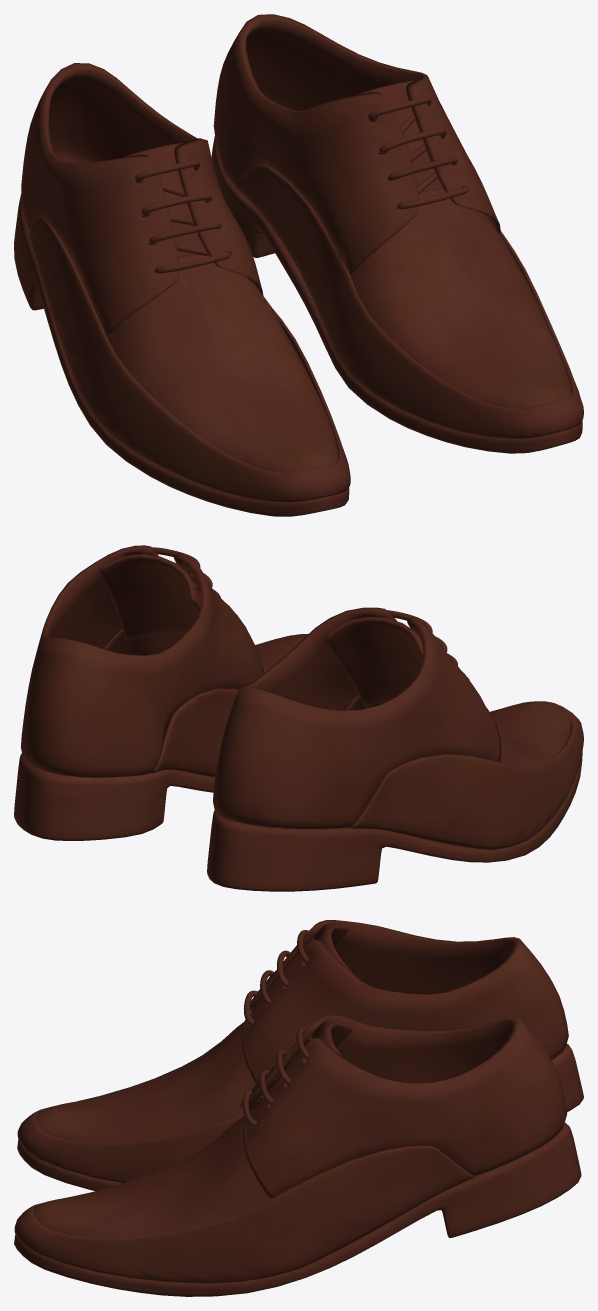
The model's file is Shoe3-1.glb.
The picture shows the model from 3 angles, top to bottom: view 1: azimuth 30°, elevation 25°; view 2: azimuth 150°, elevation 25°; view 3: azimuth 270°, elevation 25°; orthographic projection. The views are drawn at different scales.
Parts seen in each view (by area): view 1: Object_4.015; view 2: Object_4.015; view 3: Object_4.015.
Boxes of the visible parts, x1=… form: Object_4.015: x1=14, y1=14, x2=583, y2=516; Object_4.015: x1=14, y1=545, x2=583, y2=891; Object_4.015: x1=14, y1=920, x2=583, y2=1296.
Size of the model in its own units: 1.38 by 0.8293 by 1.78.
Materials: 1 (1 with a texture image).
